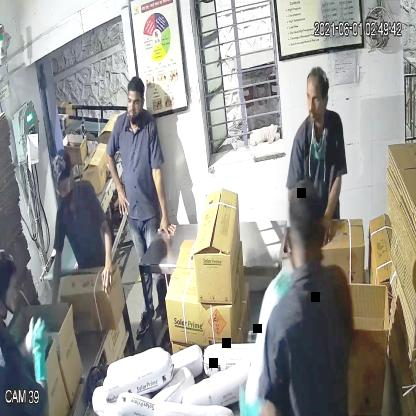no_goggles: (304, 89, 330, 110), (123, 92, 149, 112)
